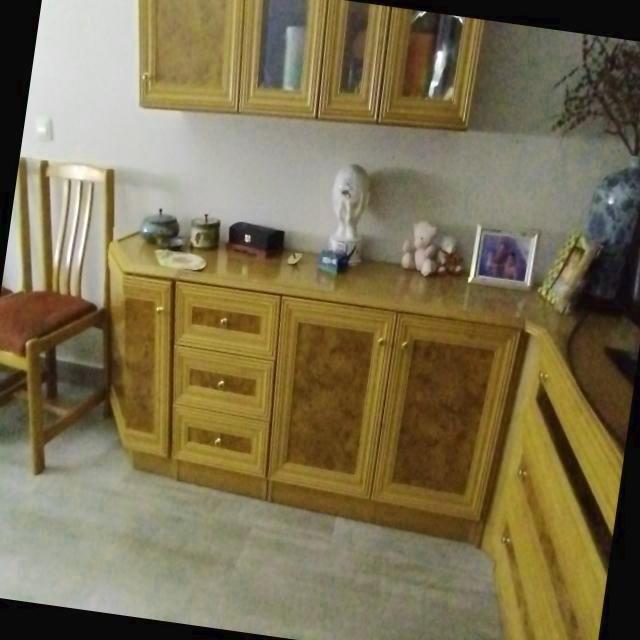cabinet: (108, 237, 640, 640), (238, 0, 485, 131), (140, 0, 243, 113)
chair: (0, 162, 115, 477), (2, 159, 32, 294), (0, 374, 18, 394)
monitor: (622, 206, 640, 327)
